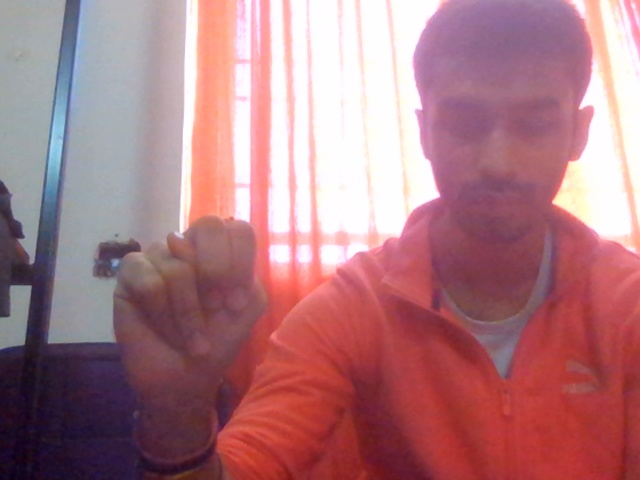N: (82, 189, 309, 430)
